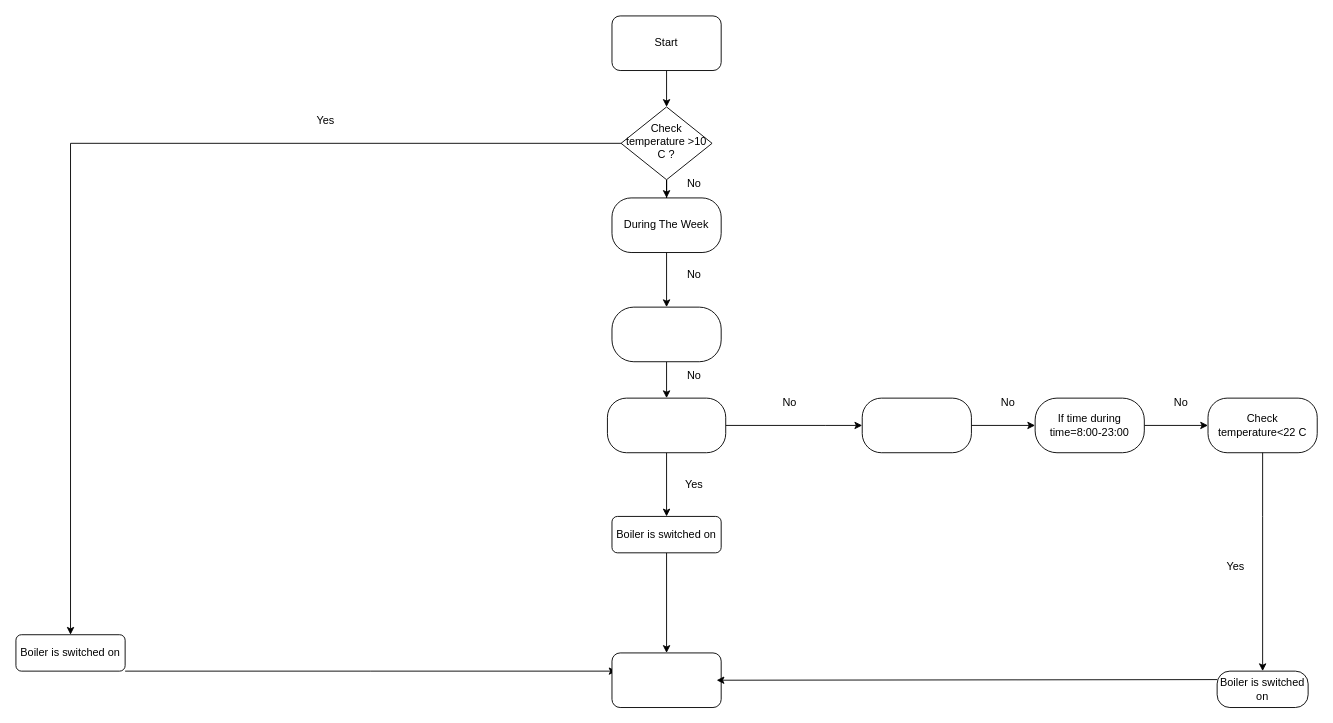
Some shapes in this 1333 by 723 pixel diagram are drawn without their labels. Each missing label, with the centre of its shape:
"At Weekend" goes at point (916, 425).
"Check temperature>20 C" goes at point (666, 425).
"End" goes at point (666, 680).
"If time during time=6:00-8:30 or 17:30-22:00" goes at point (666, 334).
